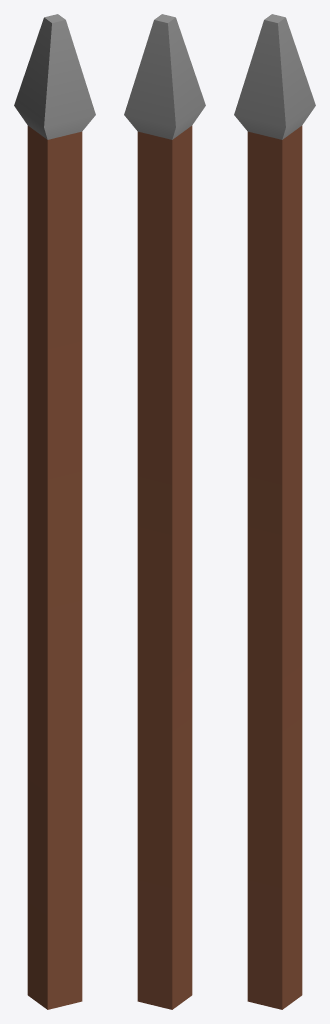
The model's file is spear.fbx.
The picture shows the model from 3 angles, left to right: view 1: azimuth 30°, elevation 25°; view 2: azimuth 150°, elevation 25°; view 3: azimuth 330°, elevation 25°; orthographic projection.
Visible parts, largest first — view 1: polySurface461; view 2: polySurface461; view 3: polySurface461.
Part boxes in pixels (x1=…): polySurface461: x1=14, y1=14, x2=95, y2=1009; polySurface461: x1=124, y1=14, x2=205, y2=1009; polySurface461: x1=234, y1=14, x2=315, y2=1009.
Size of the model in its own units: 0.03 by 0.5406 by 0.03.
